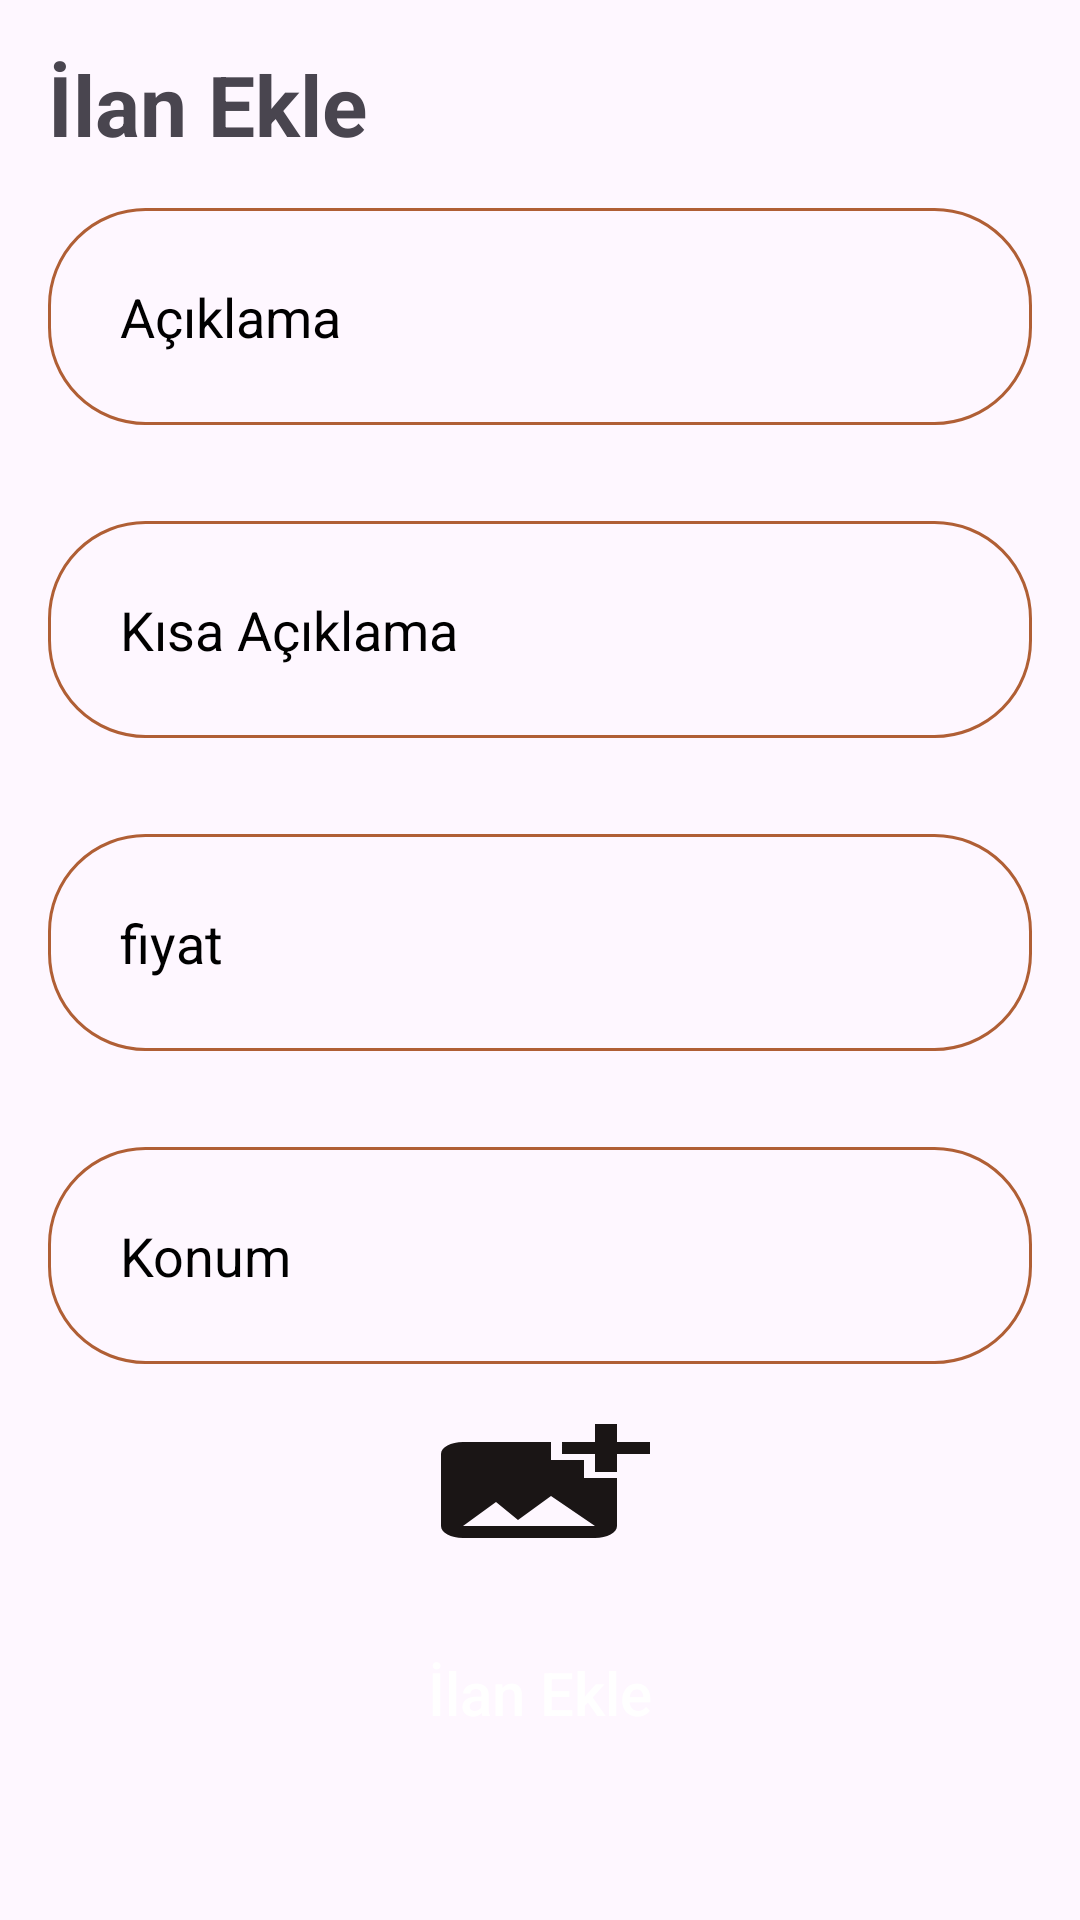

Screen size 1080 × 1920. Icon name, then its center in pixels as [x,y]:
add: [545,1481]
